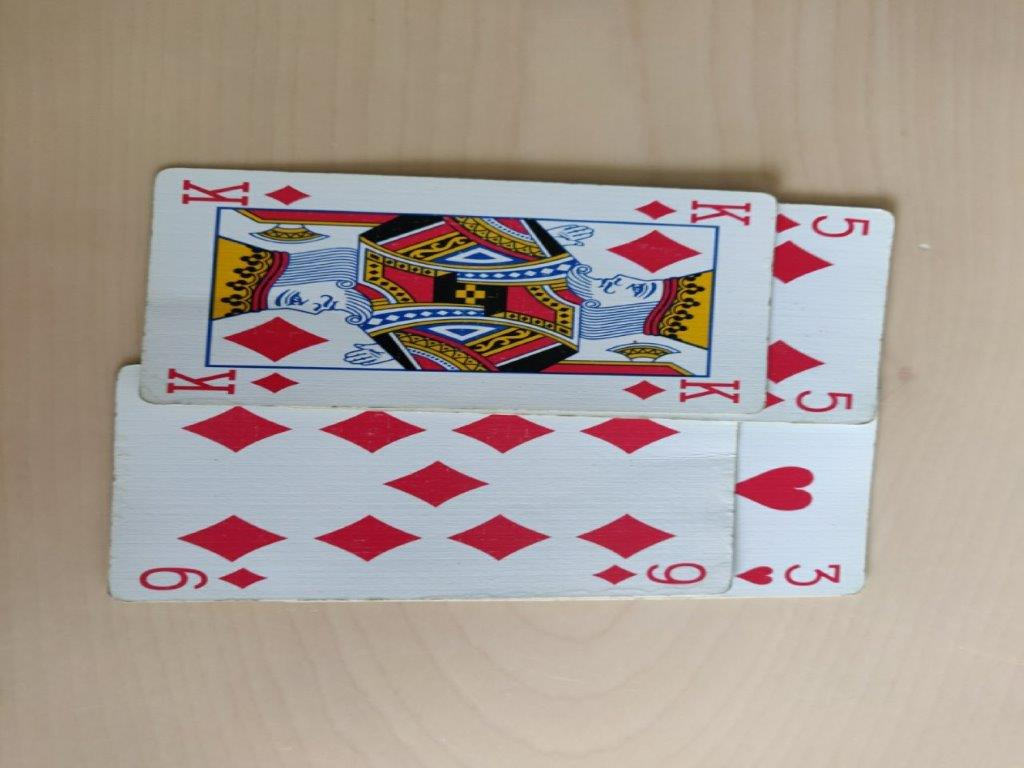3H: (730, 552, 851, 595)
5D: (768, 200, 877, 241), (757, 377, 866, 418)
9D: (585, 555, 710, 589)
KD: (628, 193, 755, 232), (620, 371, 747, 410)
